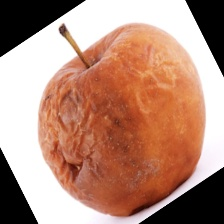apple: (28, 14, 220, 210)
